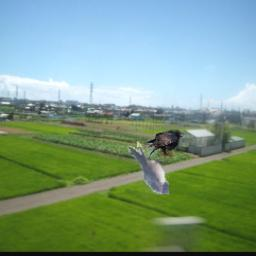Crow: (148, 131, 185, 158)
Swallow: (129, 141, 170, 194)
